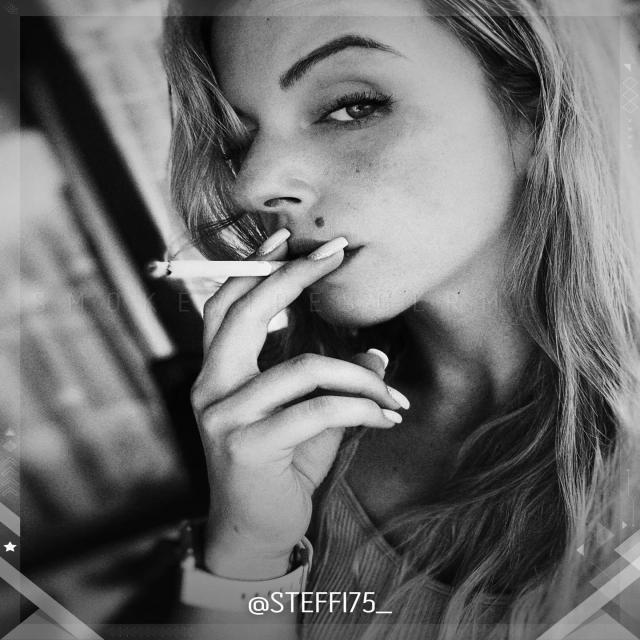rokok: (148, 258, 286, 274)
